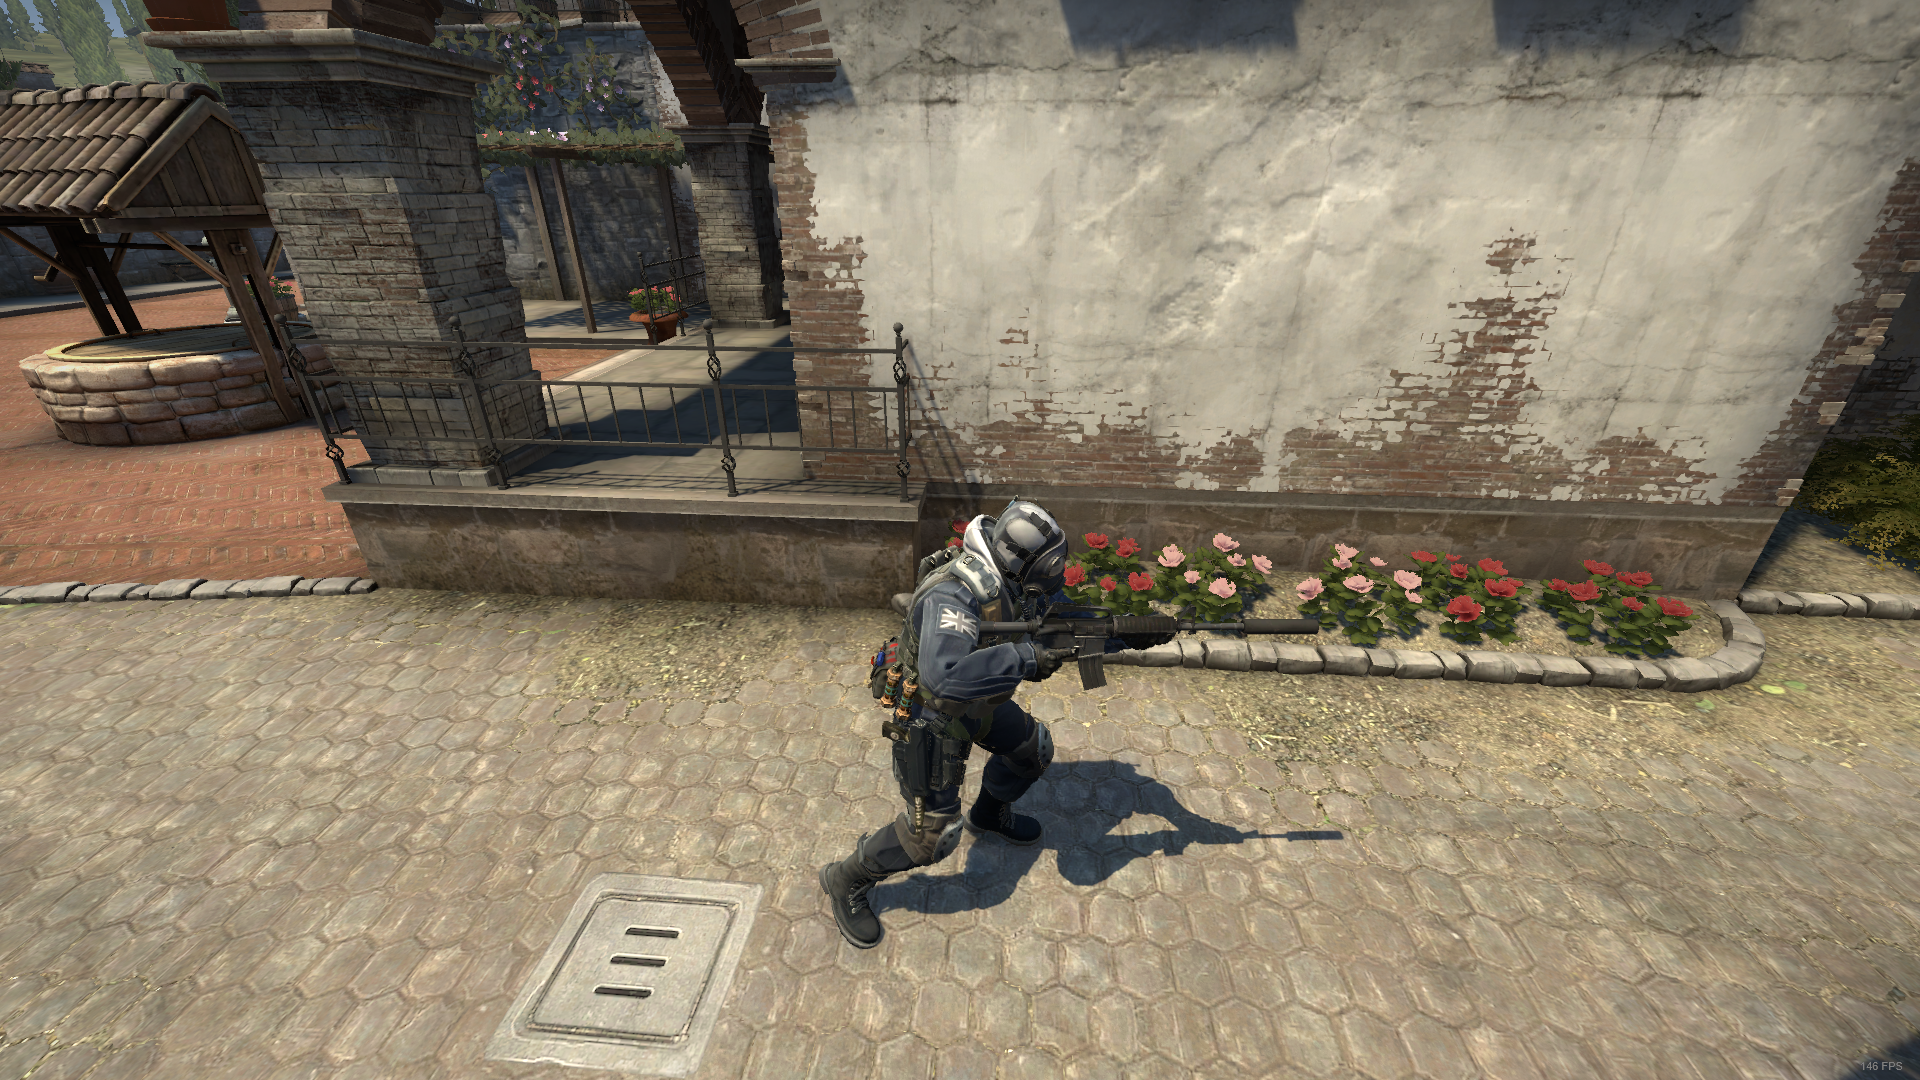ct: (819, 500, 1101, 940)
